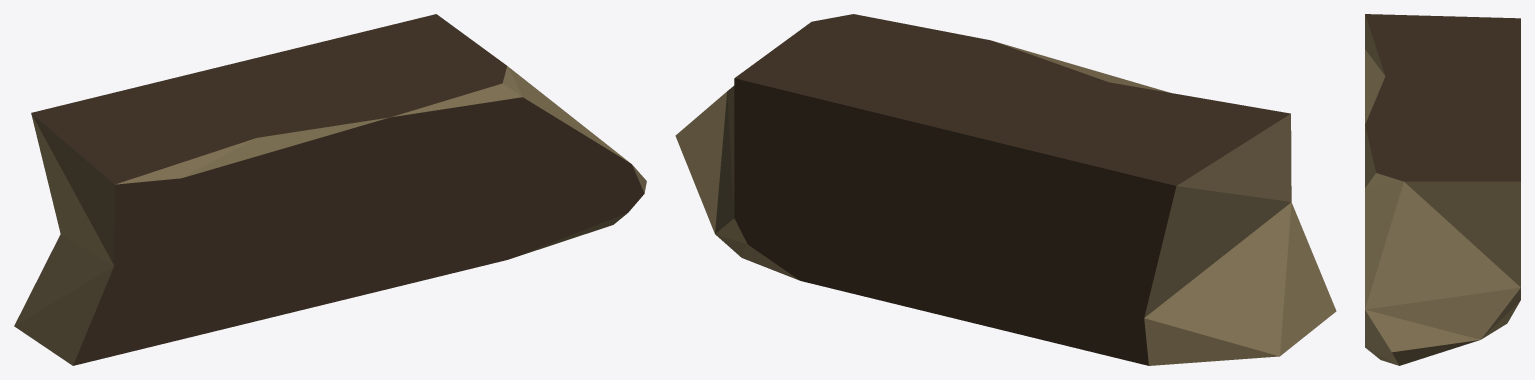
Rendered from Wooden_box_C_04.FBX.
3 renders of one model, left to right at view 1: azimuth 30°, elevation 25°; view 2: azimuth 150°, elevation 25°; view 3: azimuth 270°, elevation 25°, orthographic. The views are drawn at different scales.
Parts seen in each view (by area): view 1: Wooden_box_C_04; view 2: Wooden_box_C_04; view 3: Wooden_box_C_04.
Part boxes in pixels (bbox=[...]): Wooden_box_C_04: bbox=[14, 14, 646, 365]; Wooden_box_C_04: bbox=[675, 14, 1336, 365]; Wooden_box_C_04: bbox=[1365, 14, 1520, 365].
Size of the model in its own units: 0.8145 by 0.2244 by 0.2244.
